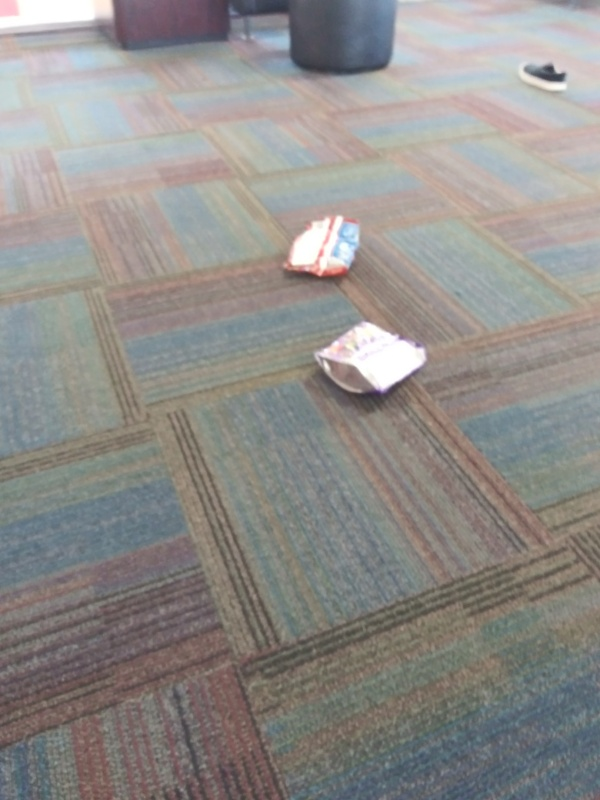bag: (308, 316, 432, 402), (277, 213, 368, 283)
